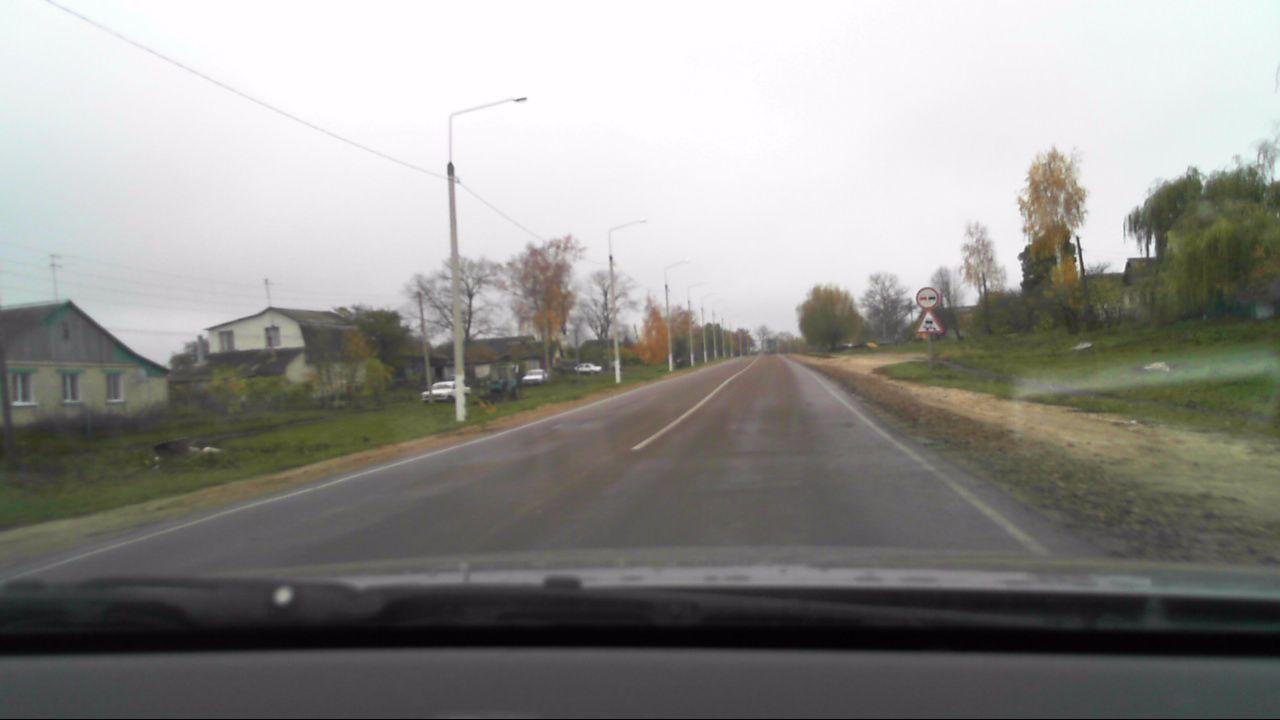1_15: (915, 312, 944, 335)
3_20: (913, 287, 941, 308)
